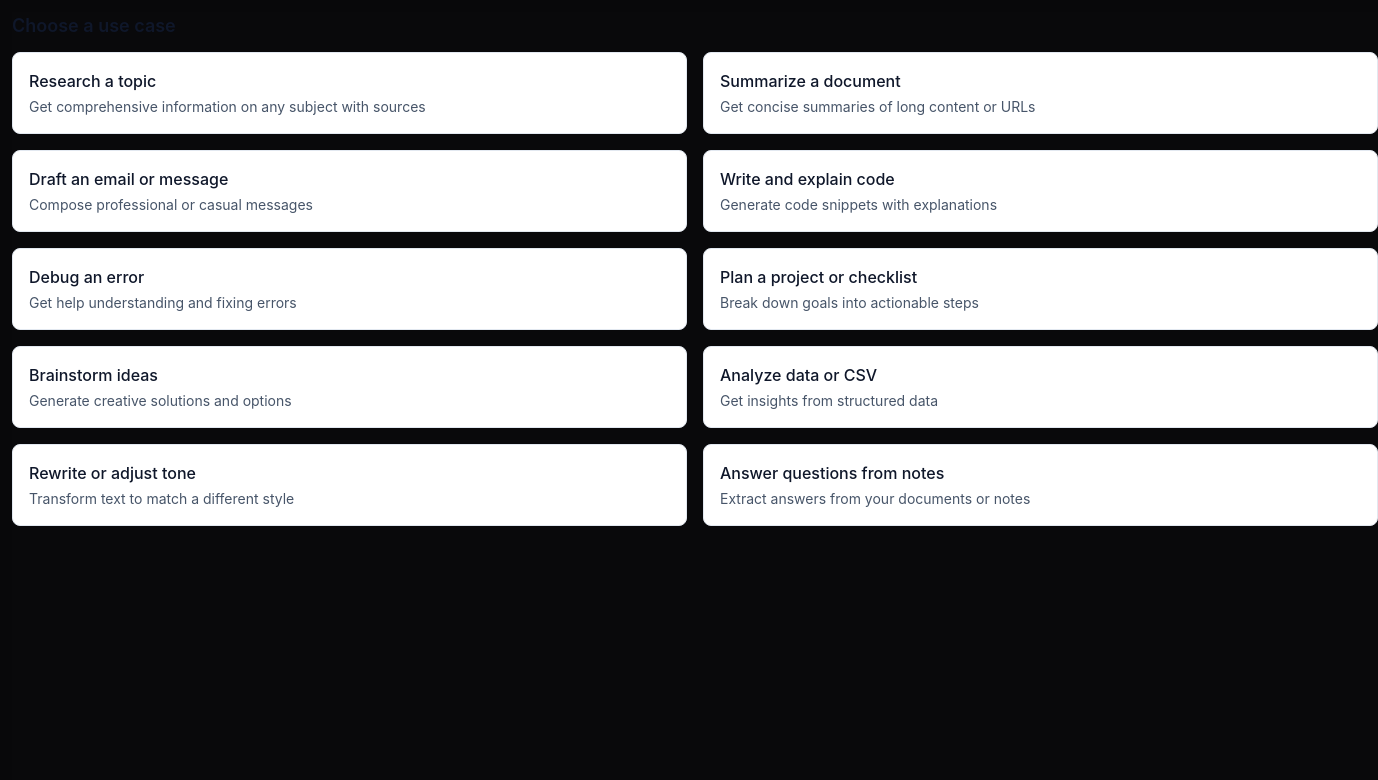
Test: UseCaseBuilder › picking a use case shows its fields
Click the radio button "Research a topic": (350, 93) [12,52,687,134]
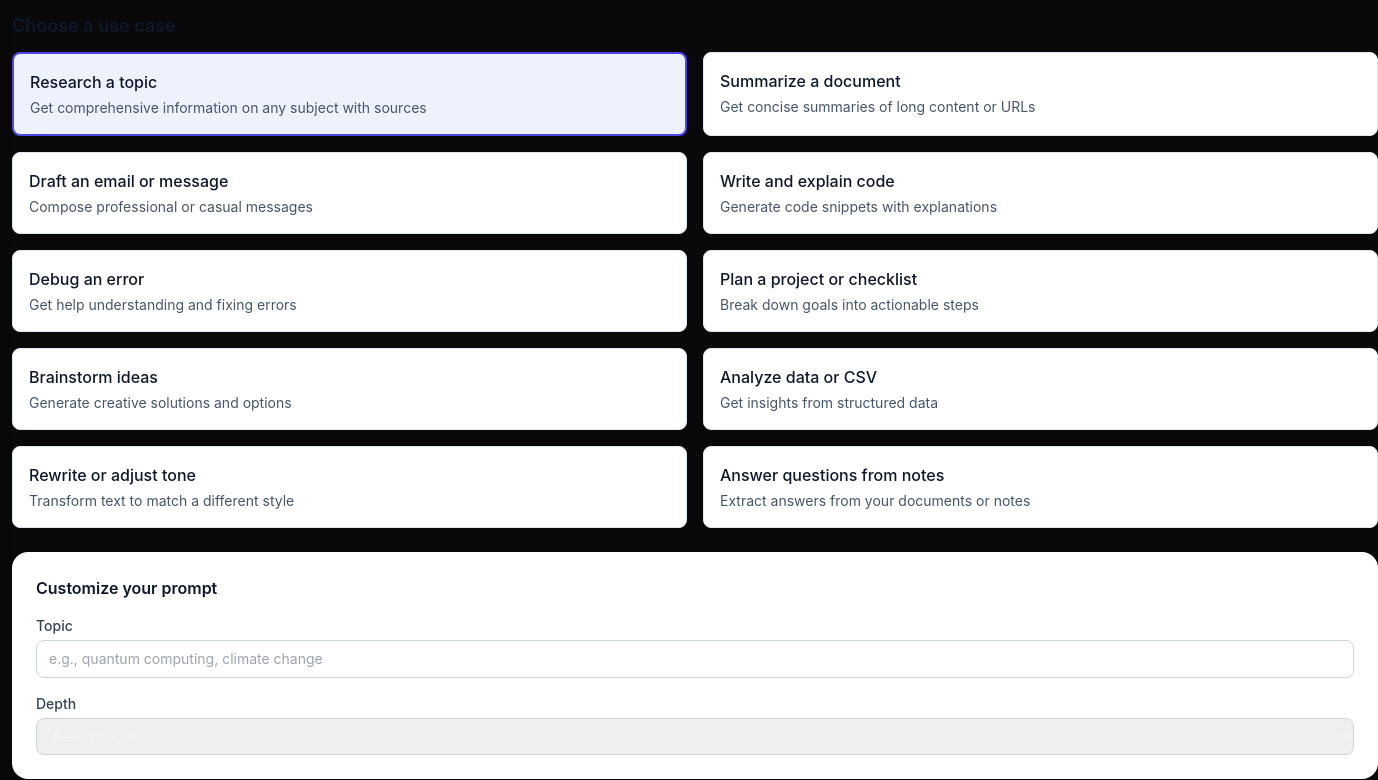
Now the field is shown, box [36,640,1354,678]
